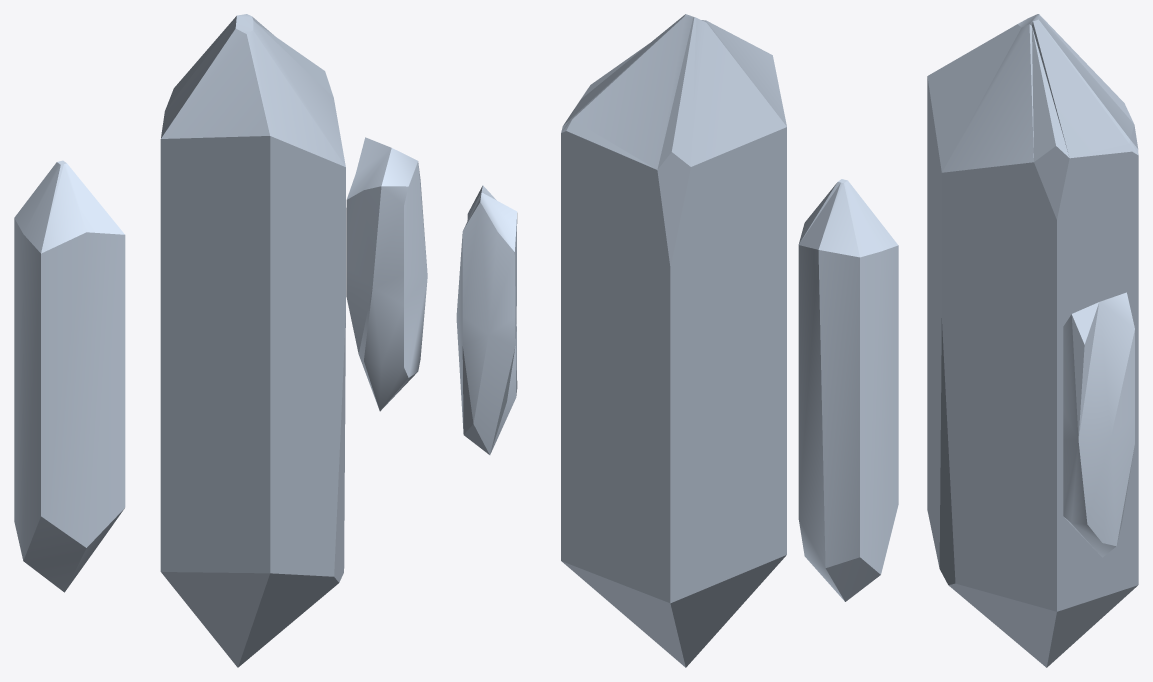
The picture shows the model from 3 angles, left to right: view 1: azimuth 30°, elevation 25°; view 2: azimuth 150°, elevation 25°; view 3: azimuth 270°, elevation 25°; orthographic projection.
Parts seen in each view (by area): view 1: Crystal01, Crystal03, Crystal02; view 2: Crystal01, Crystal03, Crystal02; view 3: Crystal01, Crystal02.
Part boxes in pixels (x1,y1,x2,y2): Crystal01: [160, 14, 345, 667]; Crystal03: [14, 160, 125, 592]; Crystal02: [346, 137, 427, 411]; Crystal01: [561, 14, 786, 667]; Crystal03: [798, 179, 898, 601]; Crystal02: [456, 185, 517, 454]; Crystal01: [927, 14, 1138, 667]; Crystal02: [1063, 292, 1134, 557].
Bounding box in the file's own units: 17.18 × 26.17 × 7.68.
